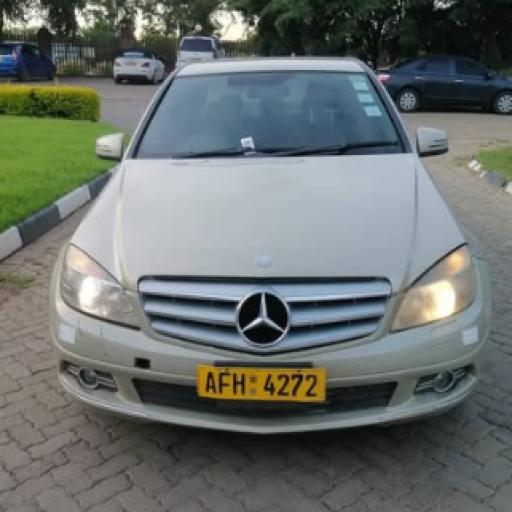number-plates: (198, 366, 324, 404)
